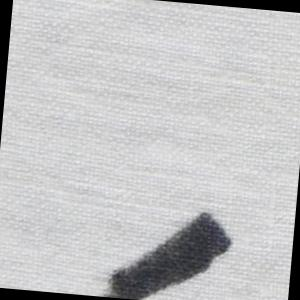Stain: (99, 197, 239, 300)
